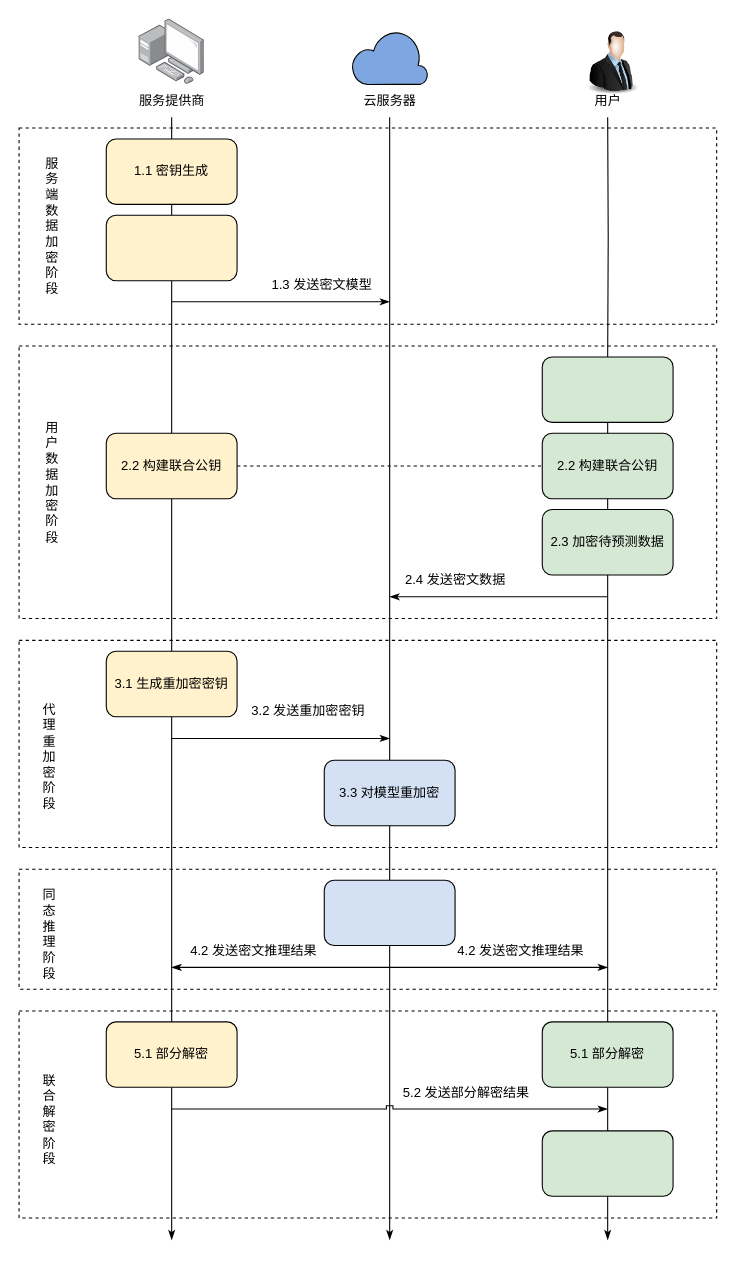
This 736x1268 diagram has some shape labels left out. Here are the shapes that lost their labels. From the top down, the centre of each, then its label:
At point (171, 247): "1.2 加密模型".
At point (607, 389): "2.1 密钥生成".
At point (389, 912): "4.1 同态推理计算".
At point (607, 1163): "5.3 恢复明文结果".
